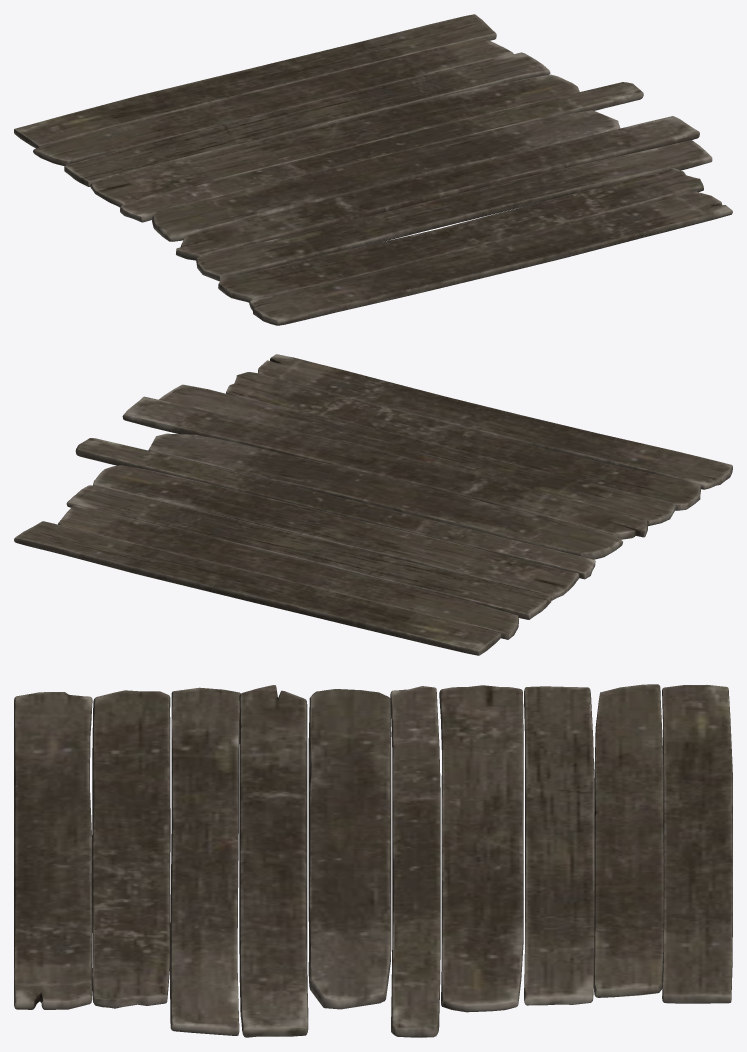
File: planks.glb
3 views of the same model, one above another, from view 1: azimuth 30°, elevation 25°; view 2: azimuth 150°, elevation 25°; view 3: azimuth 270°, elevation 25° (orthographic). The views are drawn at different scales.
Parts seen in each view (by area): view 1: modular_wooden_pier_planks; view 2: modular_wooden_pier_planks; view 3: modular_wooden_pier_planks.
Part boxes in pixels (left/top/right/bottom): modular_wooden_pier_planks: left=14, top=14, right=732, bottom=325; modular_wooden_pier_planks: left=14, top=354, right=732, bottom=655; modular_wooden_pier_planks: left=14, top=684, right=732, bottom=1037.
Bounding box in the file's own units: 2.52 × 0.0798 × 2.2.
Materials: 1 (1 with a texture image).
